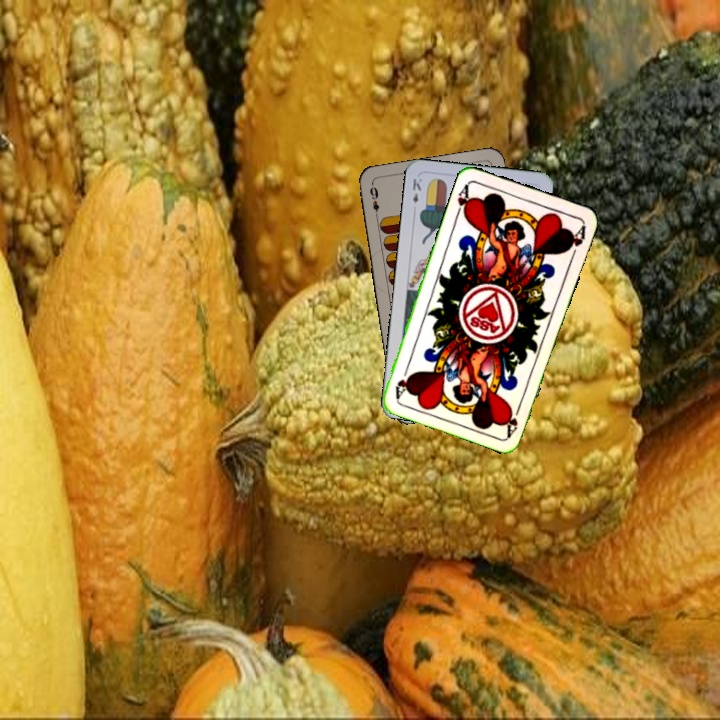E9: (366, 181, 382, 221)
EK: (408, 174, 424, 206)
HA: (452, 180, 474, 220), (502, 399, 524, 438)
